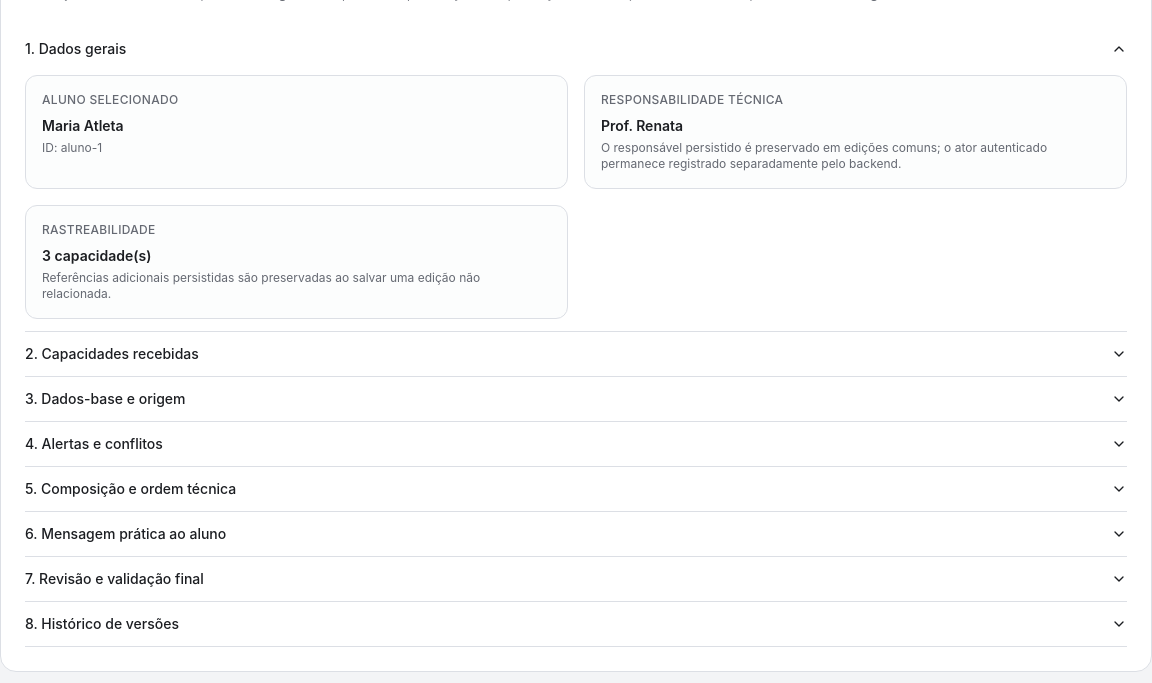
Test: ConsolidatedPrescription › exibe exatamente o motivo de inelegibilidade retornado pelo backend
(page scrolled)
Click the button "2. Capacidades recebidas": click(112, 354) x1=25 y1=332 x2=1127 y2=376
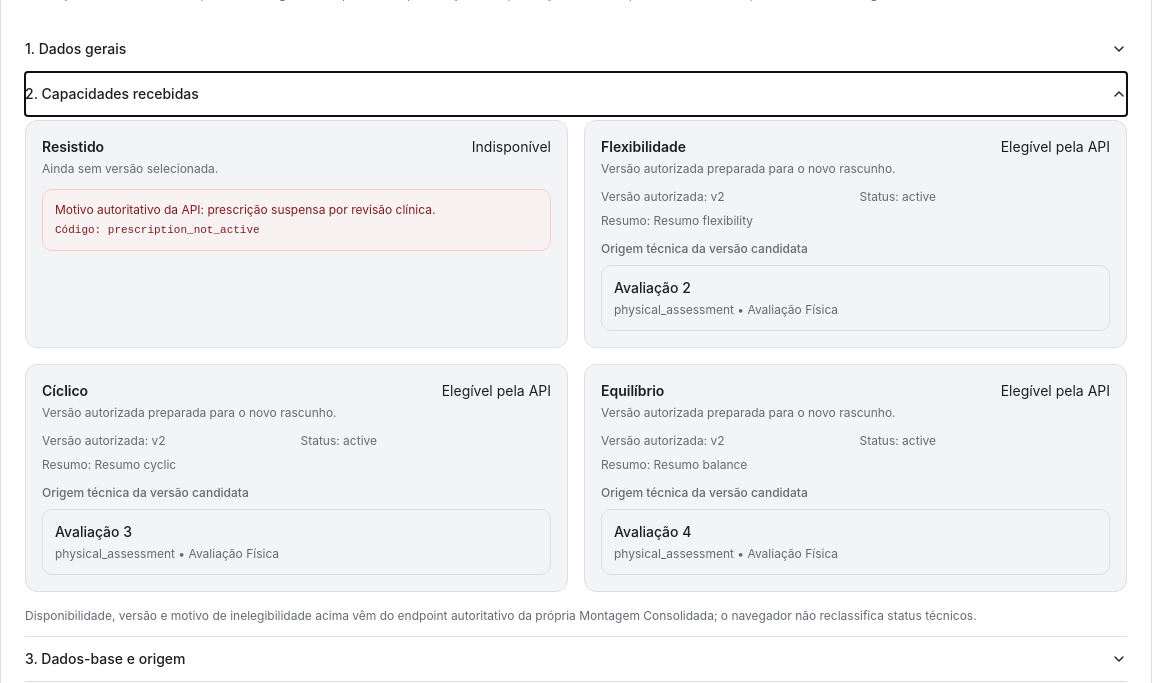
Expected: the text "Motivo autoritativo da API: prescrição suspensa por revisão clínica." is shown, x1=55 y1=202 x2=435 y2=217
Expected: the text "Código: prescription_not_active" is shown, x1=55 y1=224 x2=260 y2=236
Expected: the text "Elegível pela API" is shown 3 times, x1=1001 y1=137 x2=1110 y2=157; x1=442 y1=381 x2=551 y2=401; x1=1001 y1=381 x2=1110 y2=401
